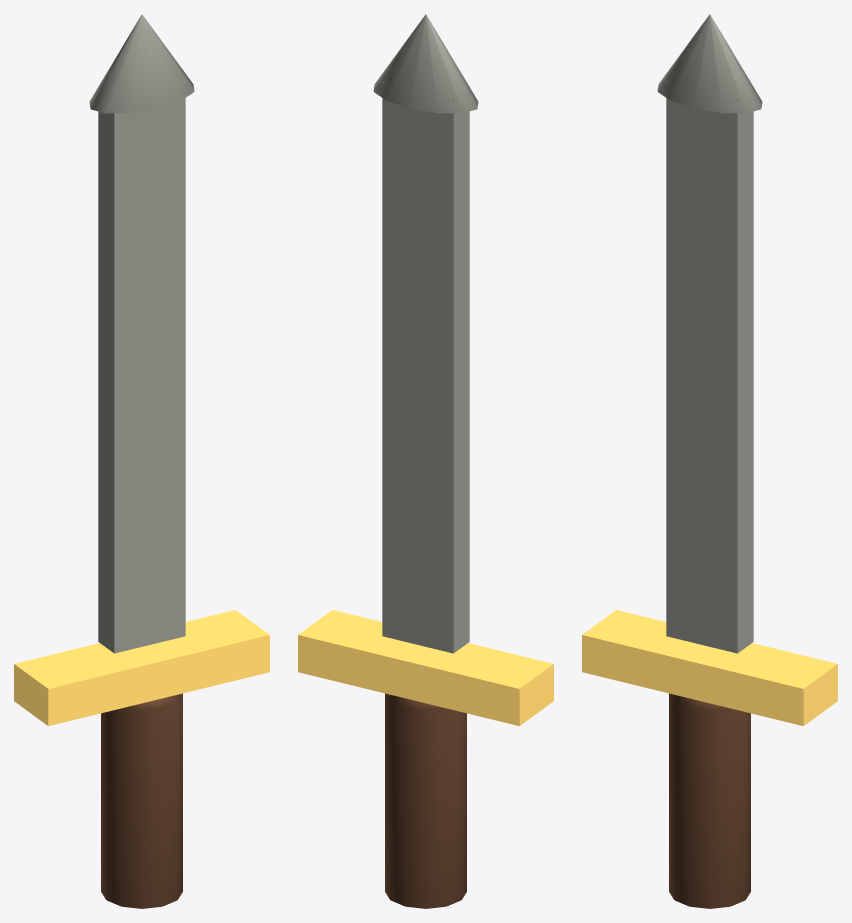
The model's file is sword.glb.
3 renders of one model, left to right at view 1: azimuth 30°, elevation 25°; view 2: azimuth 150°, elevation 25°; view 3: azimuth 330°, elevation 25°, orthographic.
Parts seen in each view (by area): view 1: sword_blade, sword_grip, sword_guard, sword_tip; view 2: sword_blade, sword_grip, sword_guard, sword_tip; view 3: sword_blade, sword_grip, sword_guard, sword_tip.
Part boxes in pixels (x1,y1,x2,y2): sword_blade: (98,81,185,653); sword_grip: (101,693,182,908); sword_guard: (14,610,269,725); sword_tip: (89,14,194,113); sword_blade: (382,81,469,653); sword_grip: (385,693,466,908); sword_guard: (298,610,553,725); sword_tip: (373,14,478,113); sword_blade: (666,81,753,653); sword_grip: (669,693,750,908); sword_guard: (582,610,837,725); sword_tip: (657,14,762,113).
Size of the model in its own units: 0.28 by 1.06 by 0.09.
